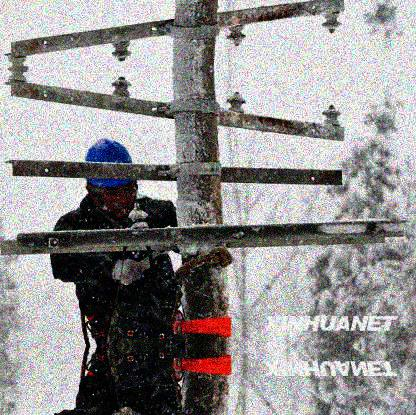helmet: (83, 137, 138, 214)
